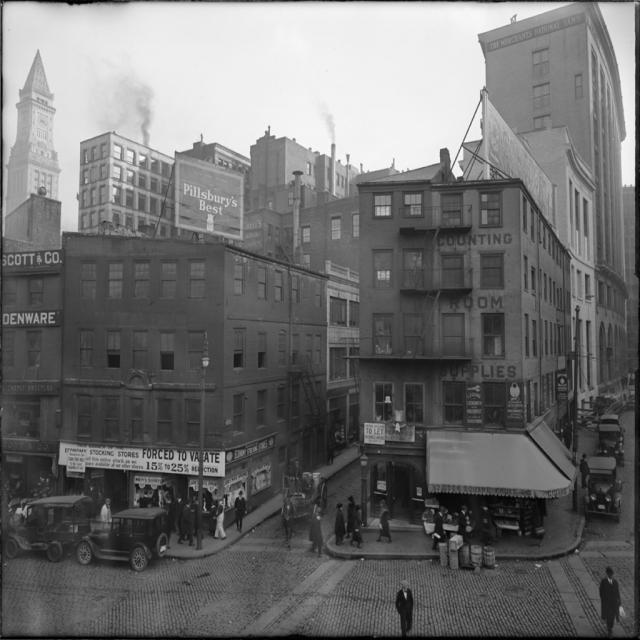truck: (76, 507, 170, 572), (0, 494, 92, 560), (583, 454, 625, 522), (599, 424, 626, 463), (598, 414, 624, 444)
